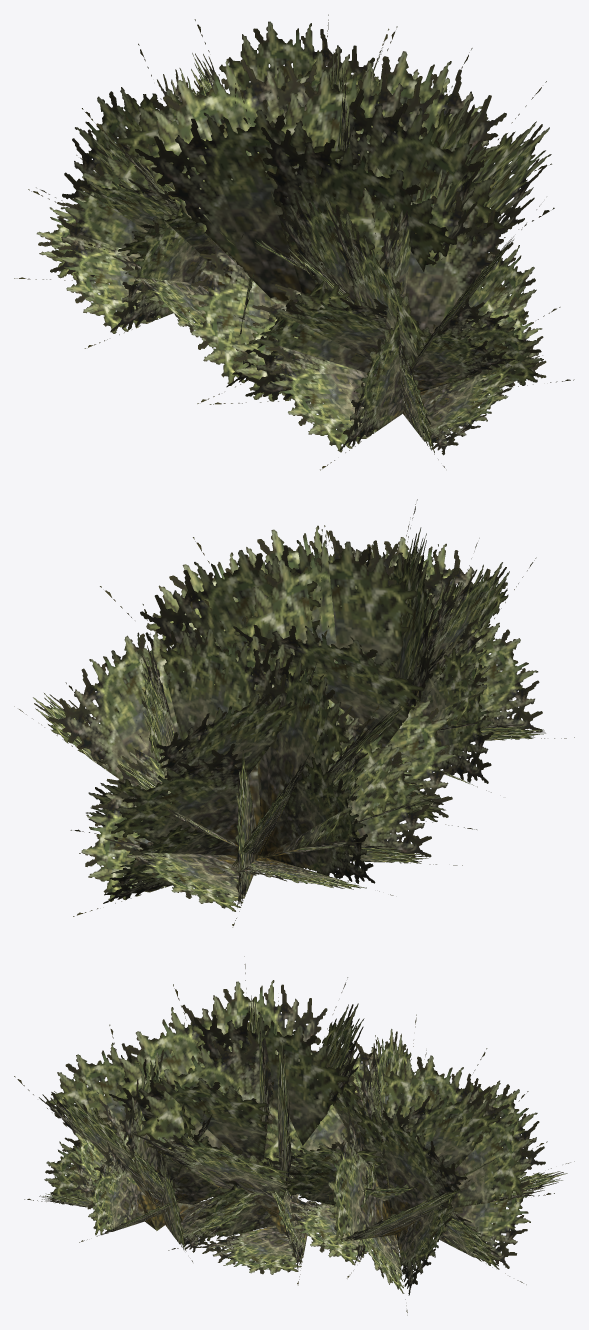
The model's file is C3SNTHORNS.obj.
3 views of the same model, one above another, from view 1: azimuth 30°, elevation 25°; view 2: azimuth 150°, elevation 25°; view 3: azimuth 270°, elevation 25° (orthographic). The views are drawn at different scales.
Visible parts, largest first — view 1: Node 0; view 2: Node 0; view 3: Node 0.
Part boxes in pixels (box(x1,y1,x2,y2)): Node 0: box(14, 14, 574, 470); Node 0: box(14, 499, 574, 927); Node 0: box(14, 956, 574, 1315).
Size of the model in its own units: 4.35 by 3.14 by 6.18.
1 material, 1 textured.
